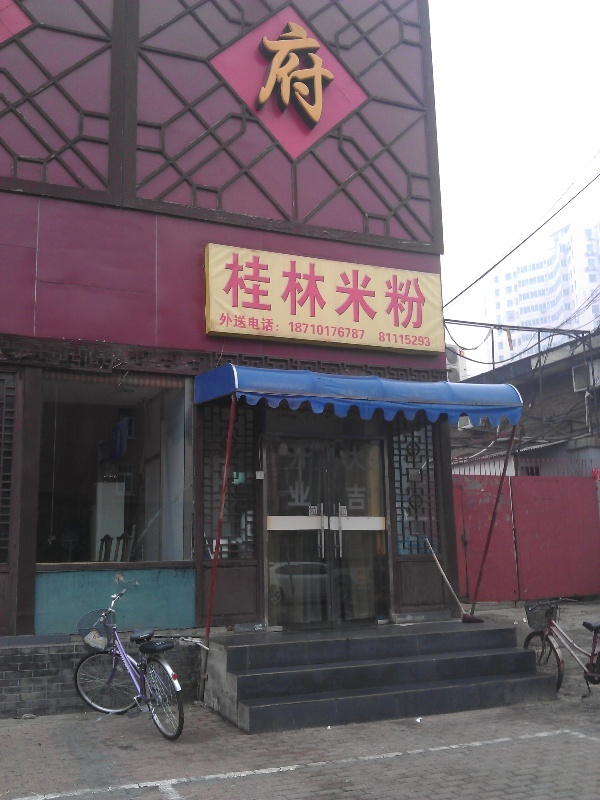text: (257, 19, 272, 129), (273, 19, 288, 129), (289, 19, 304, 129), (305, 19, 320, 129), (321, 19, 336, 129), (225, 251, 240, 332), (241, 251, 256, 332), (257, 251, 272, 332), (273, 251, 288, 332), (289, 251, 304, 332), (305, 251, 320, 332), (321, 251, 336, 332), (337, 251, 352, 332), (353, 251, 368, 332), (369, 251, 384, 332), (385, 251, 400, 332), (401, 251, 416, 332), (289, 439, 304, 509), (353, 442, 368, 512), (417, 251, 428, 332), (344, 442, 352, 512), (305, 439, 311, 509), (225, 312, 240, 334), (241, 312, 256, 334), (257, 312, 272, 334), (289, 321, 304, 341), (305, 321, 320, 341), (321, 321, 336, 341), (337, 321, 352, 341), (385, 331, 400, 348), (401, 331, 416, 348), (417, 331, 432, 348), (353, 321, 365, 341), (254, 19, 256, 129), (273, 312, 281, 334), (340, 506, 352, 517), (310, 506, 320, 517), (378, 331, 384, 348), (220, 312, 224, 334), (223, 251, 224, 332), (369, 442, 370, 512)
